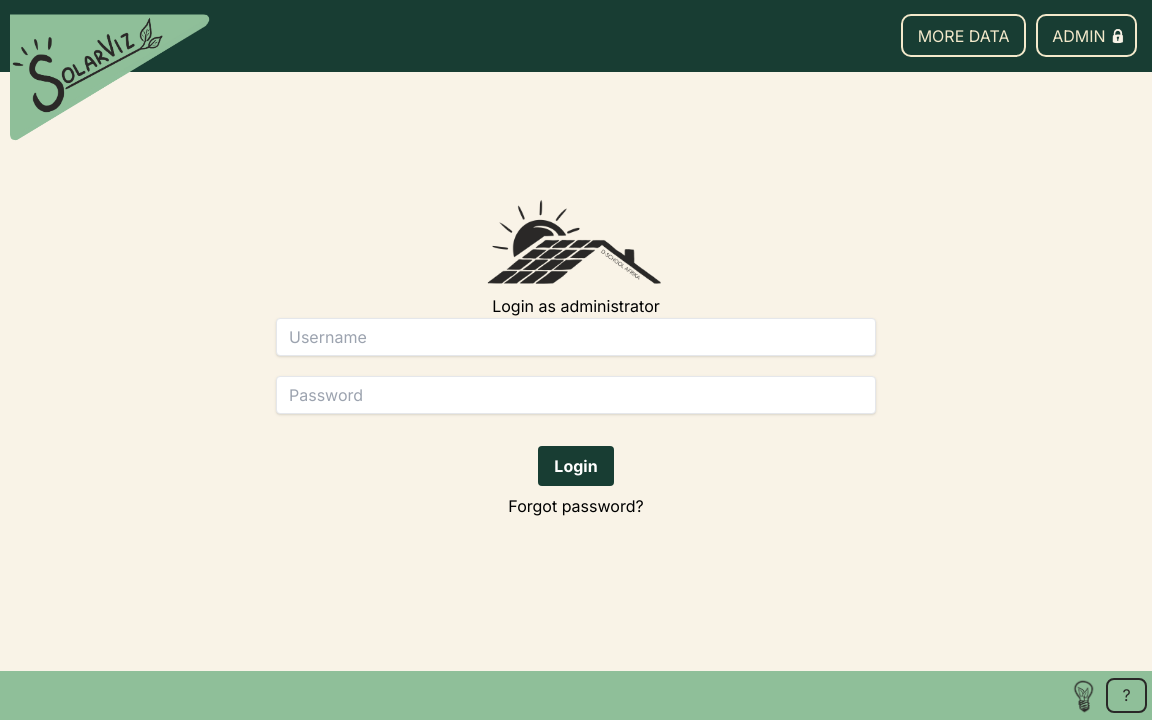
Test case: login Page › should show error message for incorrect credentials
This screenshot has width=1152, height=720.
Type "wrong_username" into the field with placeholder "Username". click: x=576, y=337
box: x1=276 y1=318 x2=876 y2=356
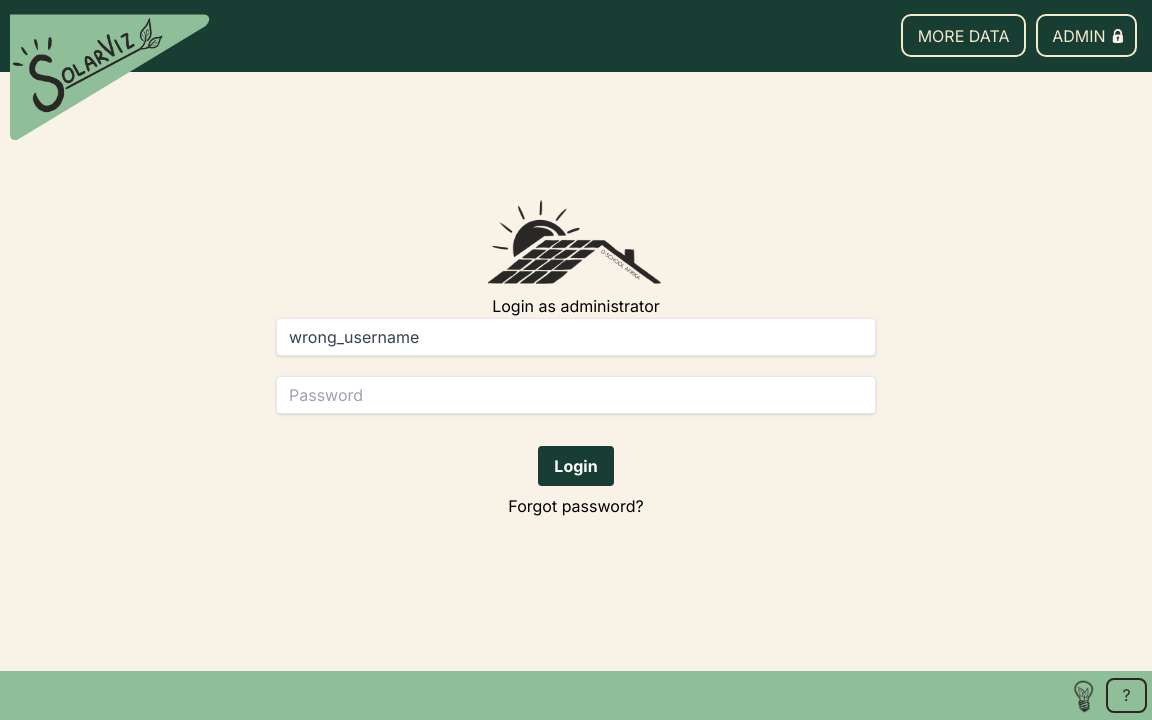
Type "wrong_password" into the password field with placeholder "Password". click: x=576, y=395
box: x1=276 y1=376 x2=876 y2=414
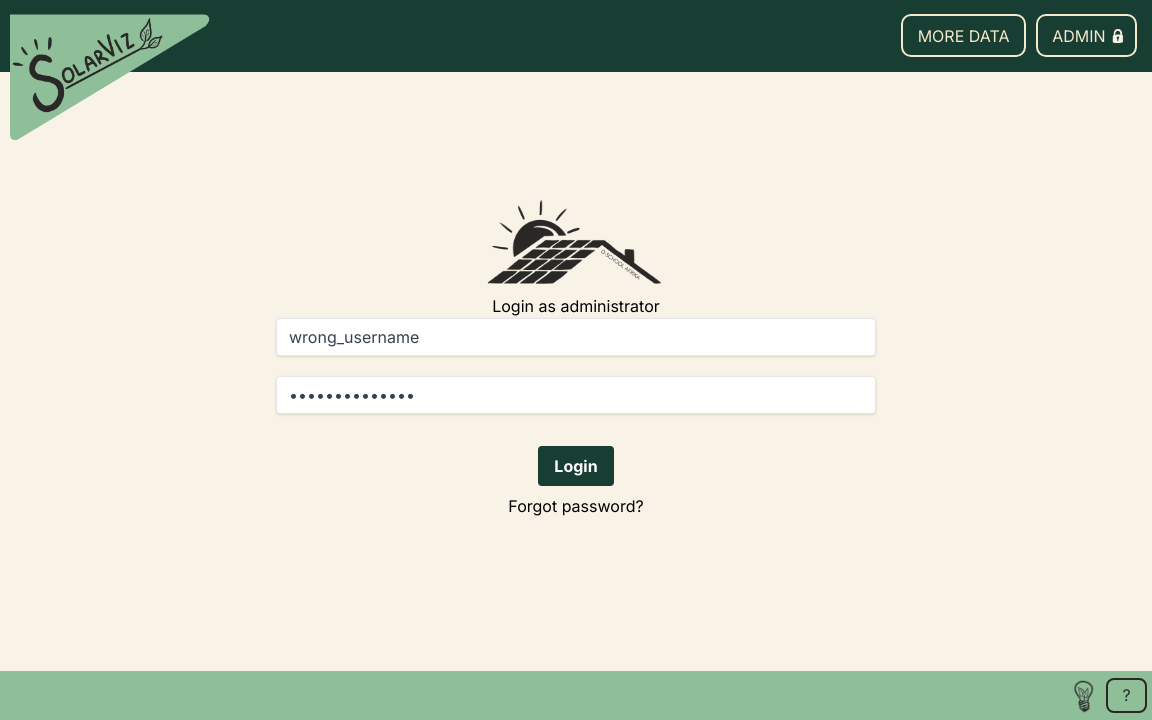
Click the button with class "loginButton". click: x=576, y=466
box: x1=538 y1=446 x2=613 y2=486
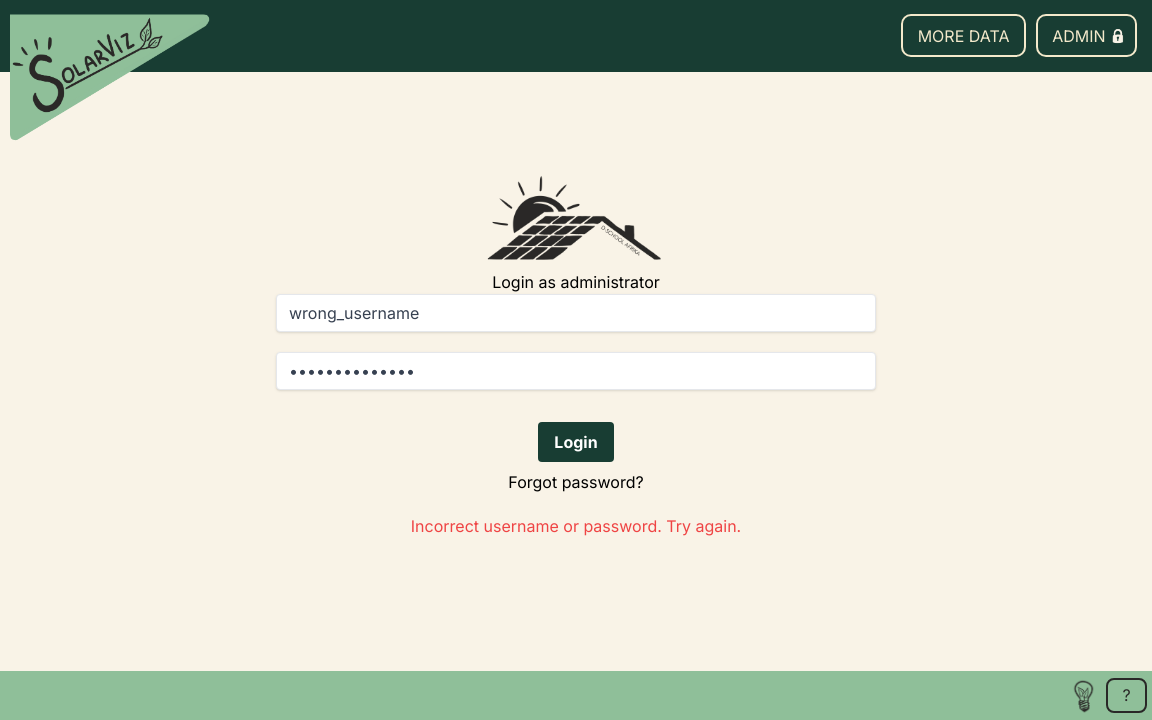
Result: the text "Incorrect username or password. Try again." is shown at x1=411 y1=516 x2=741 y2=536
